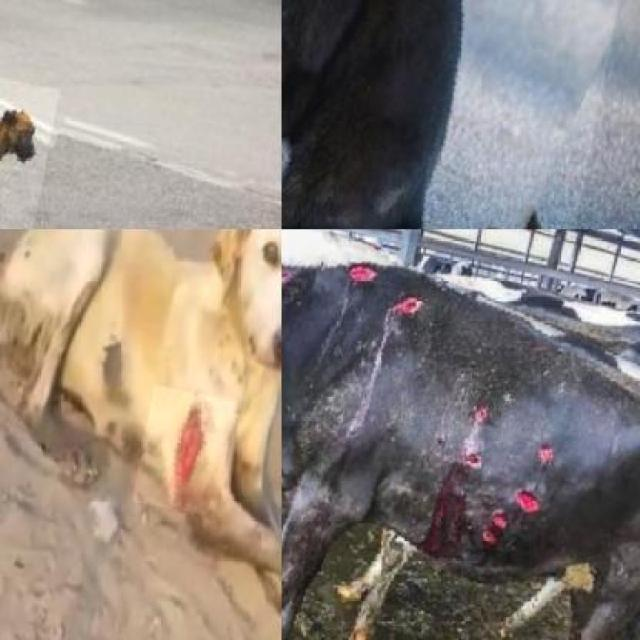cat: (281, 0, 640, 229)
cow: (281, 229, 640, 640)
dog: (0, 229, 282, 626), (0, 58, 58, 229)
injured: (132, 385, 235, 517), (334, 278, 383, 348), (428, 425, 492, 477), (282, 251, 322, 320), (442, 368, 476, 406)
